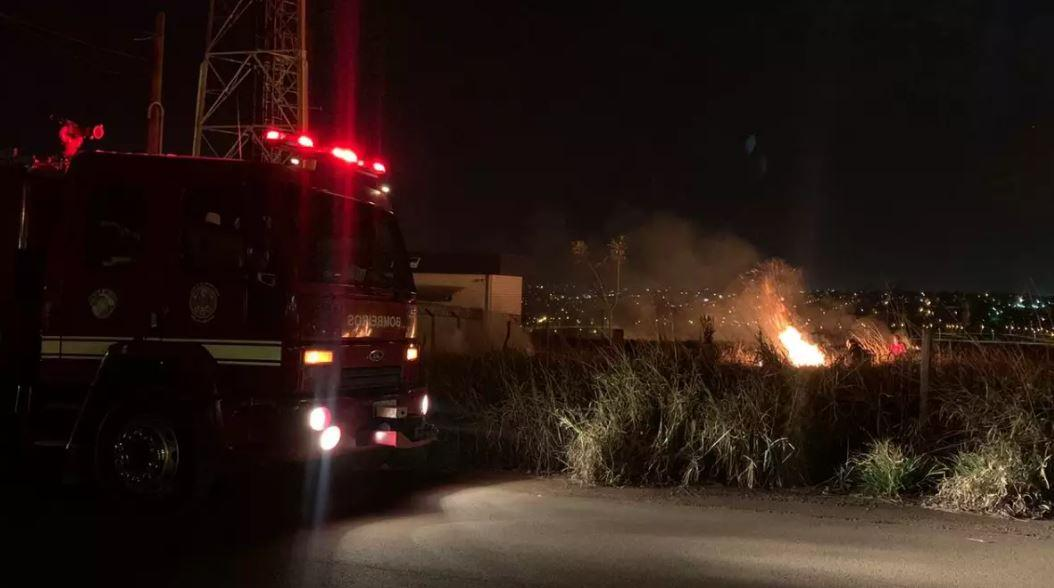fire: (780, 323, 826, 364)
